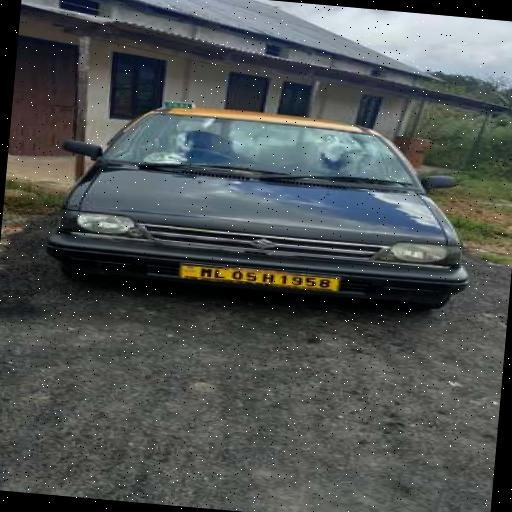license_plate`: (178, 264, 336, 290)
